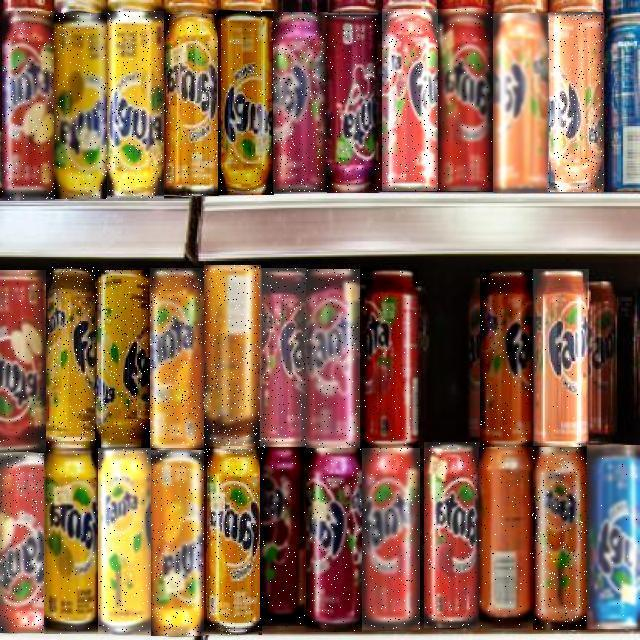Drinks: (107, 12, 164, 200), (362, 448, 420, 630), (206, 447, 262, 635), (425, 443, 481, 629), (218, 10, 274, 195), (306, 448, 362, 632), (204, 266, 261, 446), (533, 447, 589, 630), (382, 9, 438, 191), (274, 13, 330, 193), (493, 13, 549, 193), (548, 13, 604, 193), (95, 270, 151, 450), (362, 269, 418, 449), (54, 13, 108, 199), (45, 448, 99, 634), (152, 450, 206, 636), (2, 11, 55, 200), (164, 15, 219, 197), (438, 9, 493, 191), (533, 269, 589, 446), (98, 448, 151, 634), (587, 445, 640, 629), (306, 269, 360, 449), (328, 13, 382, 193), (151, 269, 205, 449), (479, 448, 533, 628), (480, 270, 534, 448), (47, 266, 96, 446), (0, 270, 46, 452), (260, 269, 306, 449), (260, 448, 306, 628), (0, 453, 45, 633)
